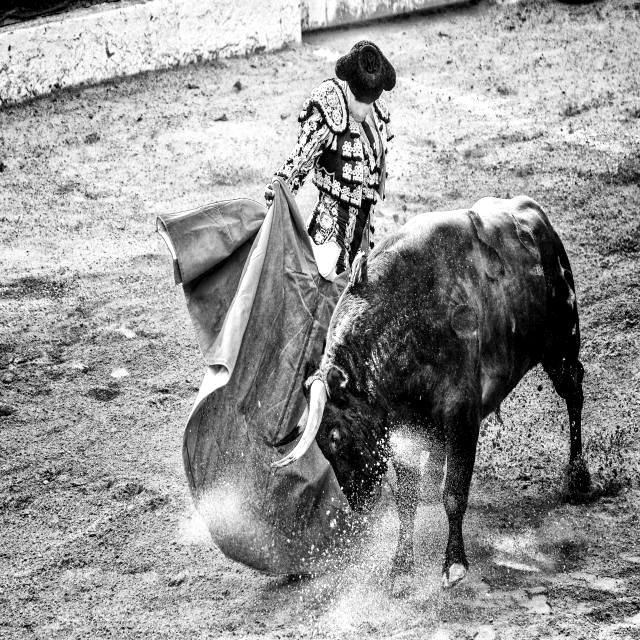no_hard_hat: (335, 40, 396, 104)
person: (275, 41, 396, 279)
